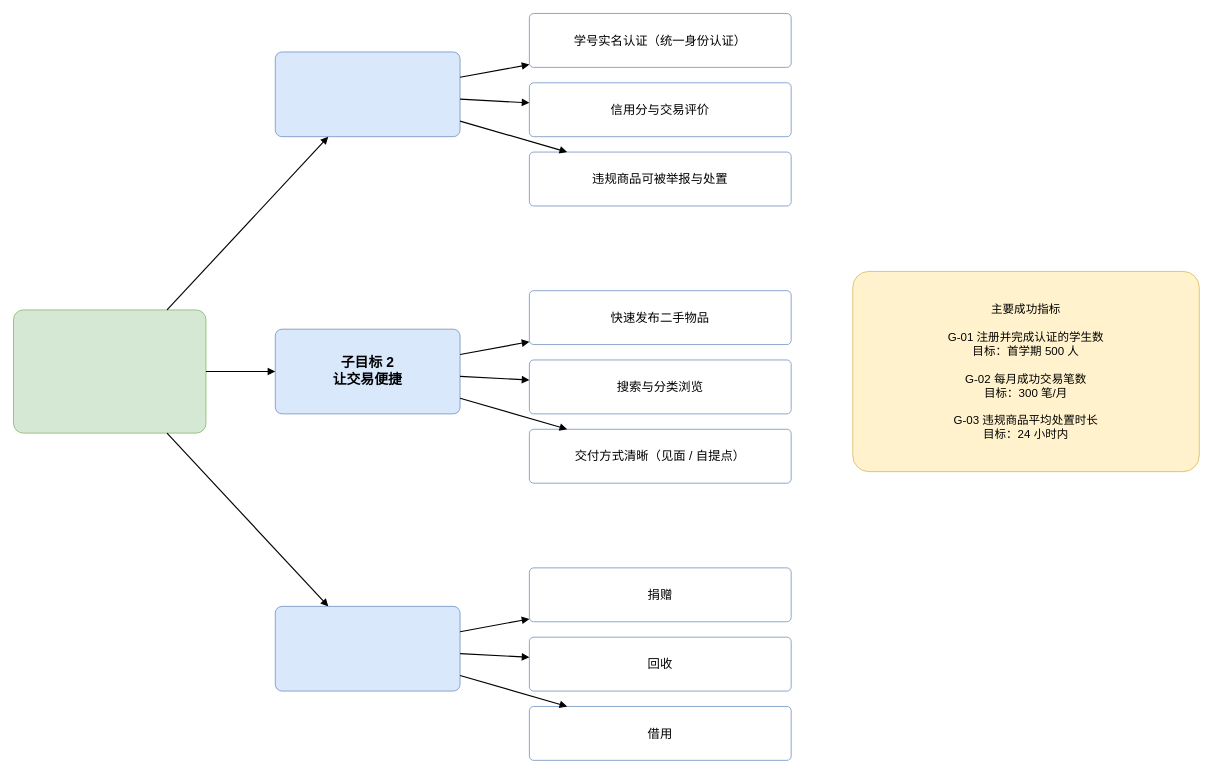
The diagram is 1213 pixels wide and 774 high, and some of its shapes have lost their labels. Each missing label, with the box of its shape:
子目标 1 让交易可信: (275, 51, 460, 137)
子目标 3 让闲置物品流转起来: (275, 606, 460, 691)
总体目标 建立可信、便捷的 校园二手交易与 物品流转平台: (13, 309, 206, 433)
